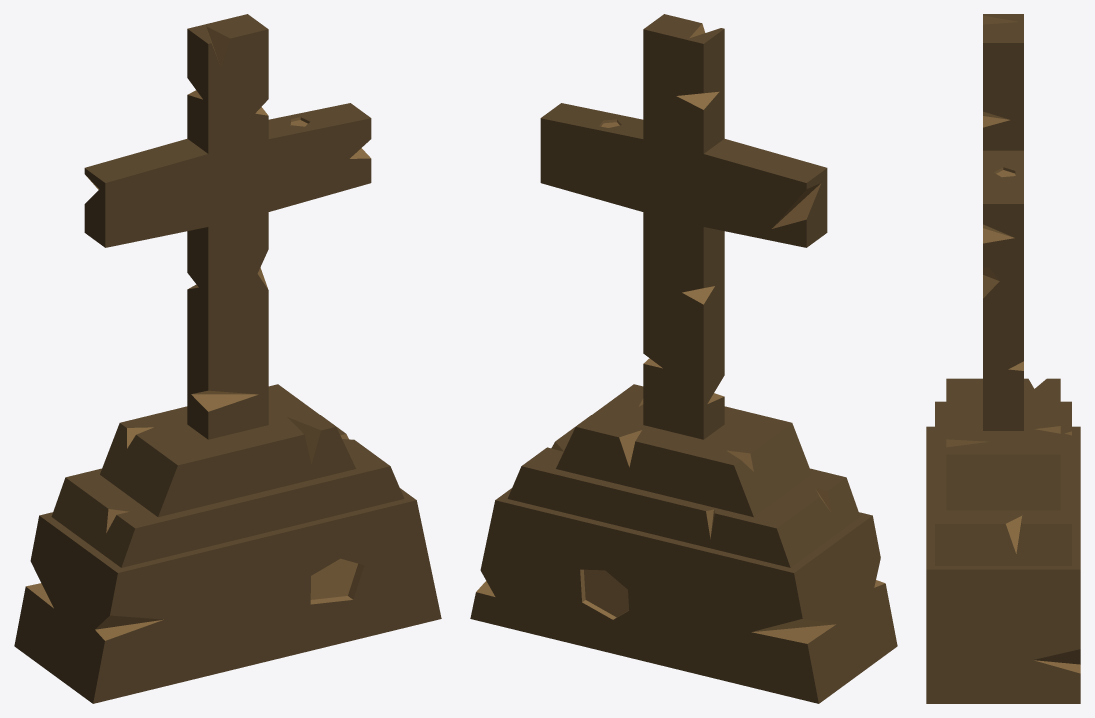
Rendered from Tombstone_4_Brown.fbx.
The picture shows the model from 3 angles, left to right: view 1: azimuth 30°, elevation 25°; view 2: azimuth 150°, elevation 25°; view 3: azimuth 270°, elevation 25°; orthographic projection.
Parts seen in each view (by area): view 1: Tombstone_4_Brown_Part_1, Tombstone_4_Brown_Part_2; view 2: Tombstone_4_Brown_Part_1, Tombstone_4_Brown_Part_2; view 3: Tombstone_4_Brown_Part_1, Tombstone_4_Brown_Part_2.
Part boxes in pixels (x1=…): Tombstone_4_Brown_Part_1: x1=14, y1=14, x2=441, y2=703; Tombstone_4_Brown_Part_2: x1=26, y1=26, x2=370, y2=640; Tombstone_4_Brown_Part_1: x1=470, y1=14, x2=897, y2=703; Tombstone_4_Brown_Part_2: x1=476, y1=23, x2=884, y2=643; Tombstone_4_Brown_Part_1: x1=926, y1=14, x2=1080, y2=703; Tombstone_4_Brown_Part_2: x1=946, y1=15, x2=1080, y2=673.
Bounding box in the file's own units: 66.36 × 110 × 25.96.
